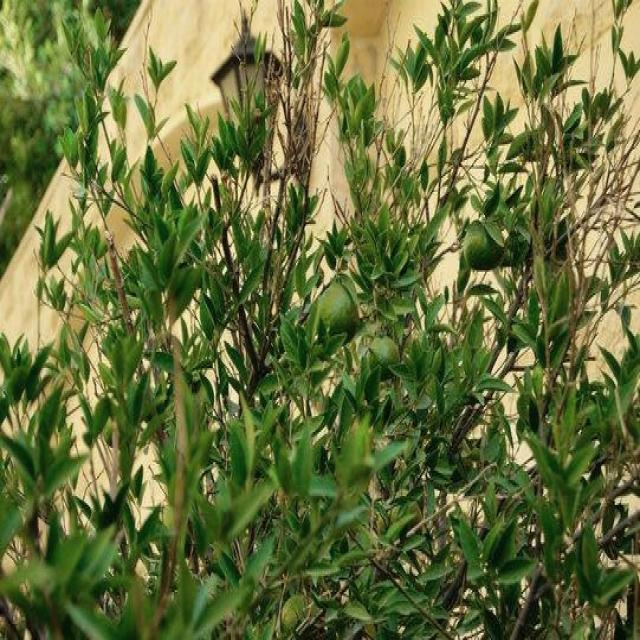Jeruk Belum Matang: (320, 284, 358, 340), (465, 226, 504, 270), (369, 340, 402, 376), (284, 595, 308, 633)
